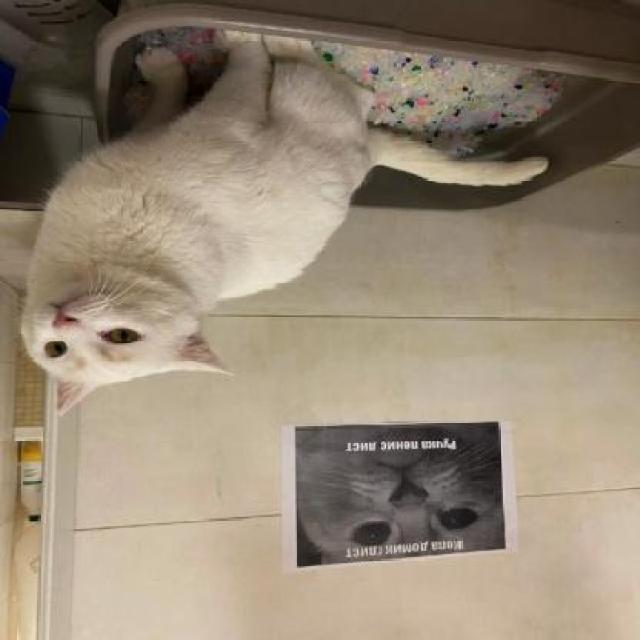cat: (1, 58, 372, 414)
